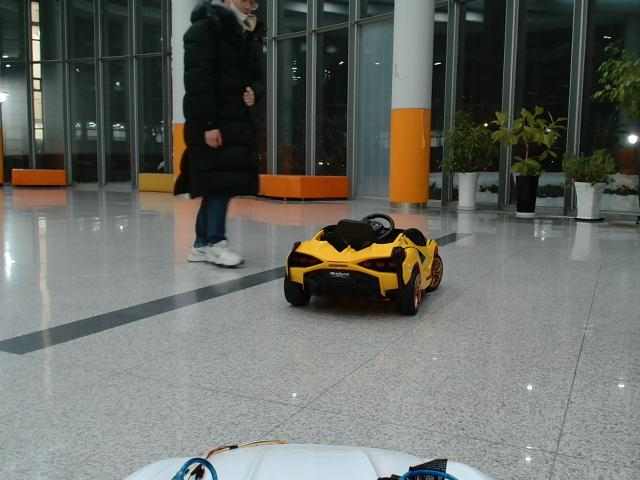car: (285, 213, 443, 316)
